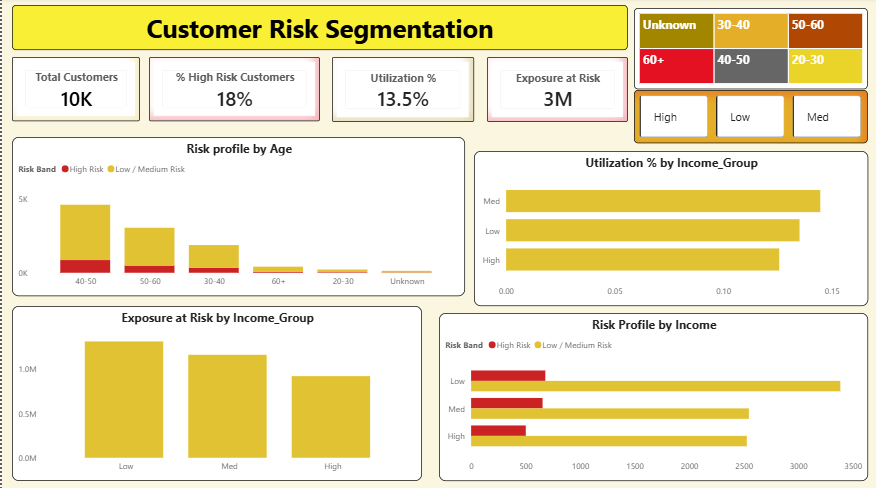

This screenshot's page, from the dashboard's own definition file:
{"tool":"powerbi","page":{"name":"Segmentation","canvas":[1280,720],"ordinal":3},"visuals":[{"type":"clusteredBarChart","title":"Risk Profile by Income","fields":{"Category":["cust_detail.Income_Group"],"Y":["cc_detail.Customer_Count"],"Series":["cc_detail.Risk Band"]},"box":[639.5,461,627.8,245.9],"z":0},{"type":"columnChart","title":"Risk profile by Age","fields":{"Category":["cust_detail.Age_Group"],"Y":["cc_detail.Customer_Count"],"Series":["cc_detail.Risk Band"]},"box":[14.6,203.4,662.9,232.7],"z":1000},{"type":"cardVisual","fields":{"Data":["cc_detail.% High Risk Customers"]},"box":[215.1,86.3,250.2,93.7],"z":2000},{"type":"cardVisual","fields":{"Data":["cc_detail.Utilization %"]},"box":[482.9,86.3,207.8,95.1],"z":3000},{"type":"cardVisual","fields":{"Data":["cc_detail.Exposure at Risk"]},"box":[709.8,86.3,206.3,95.1],"z":4000},{"type":"cardVisual","fields":{"Data":["cc_detail.Customer_Count"]},"box":[14.6,86.3,187.3,93.7],"z":5000},{"type":"columnChart","fields":{"Y":["cc_detail.Exposure at Risk"],"Category":["cust_detail.Income_Group"]},"box":[14.6,450.7,600,256.1],"z":6000},{"type":"clusteredBarChart","fields":{"Category":["cust_detail.Income_Group"],"Y":["cc_detail.Utilization %"]},"box":[690.7,223.9,576.6,226.8],"z":7000},{"type":"treemap","fields":{"Group":["cust_detail.Age_Group"],"Values":["Avg(cc_detail.Client_Num)"]},"box":[924.9,14.6,342.4,118.5],"z":8000},{"type":"textbox","box":[14.6,10.2,901.5,65.9],"z":9000},{"type":"advancedSlicerVisual","fields":{"Values":["cust_detail.Income_Group"]},"box":[924.9,134.6,342.4,77.6],"z":10000}]}

Visuals, with their boxes in screenshot pixels (x1, y1, x2, y2), scaled from the page's 1280x720 canvas onto the 876x488 screenshot:
"Risk Profile by Income" clusteredBarChart: {"left": 438, "top": 312, "right": 867, "bottom": 479}
"Risk profile by Age" columnChart: {"left": 10, "top": 138, "right": 464, "bottom": 296}
cardVisual - cc_detail.% High Risk Customers: {"left": 147, "top": 58, "right": 318, "bottom": 122}
cardVisual - cc_detail.Utilization %: {"left": 330, "top": 58, "right": 473, "bottom": 123}
cardVisual - cc_detail.Exposure at Risk: {"left": 486, "top": 58, "right": 627, "bottom": 123}
cardVisual - cc_detail.Customer_Count: {"left": 10, "top": 58, "right": 138, "bottom": 122}
columnChart - cc_detail.Exposure at Risk x cust_detail.Income_Group: {"left": 10, "top": 305, "right": 421, "bottom": 479}
clusteredBarChart - cust_detail.Income_Group x cc_detail.Utilization %: {"left": 473, "top": 152, "right": 867, "bottom": 305}
treemap - cust_detail.Age_Group x Avg(cc_detail.Client_Num): {"left": 633, "top": 10, "right": 867, "bottom": 90}
textbox: {"left": 10, "top": 7, "right": 627, "bottom": 52}
advancedSlicerVisual - cust_detail.Income_Group: {"left": 633, "top": 91, "right": 867, "bottom": 144}
